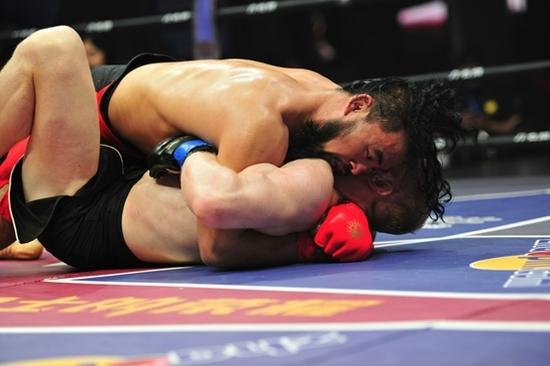fall: (1, 20, 437, 272)
